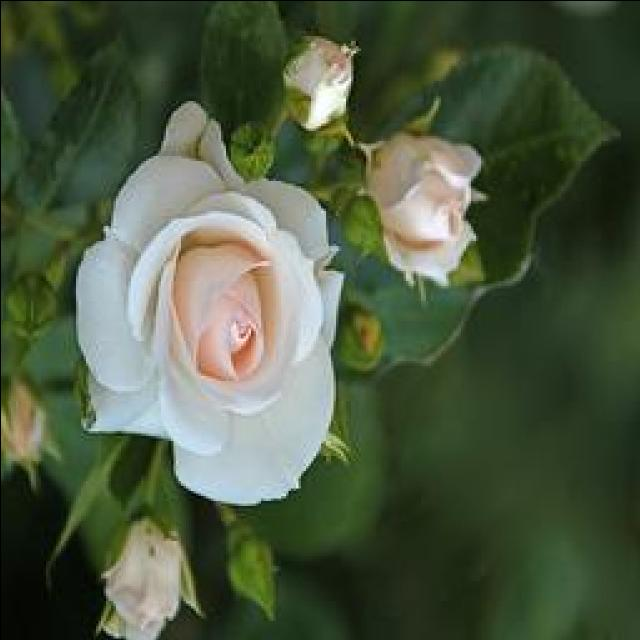rose: (57, 148, 359, 500)
